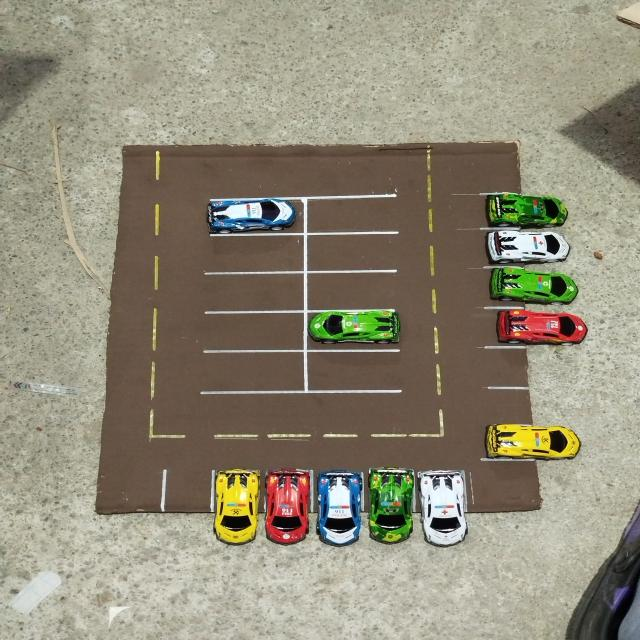libre: (482, 345, 587, 387), (201, 310, 305, 352), (96, 467, 164, 529), (201, 351, 306, 391), (306, 349, 402, 392), (202, 273, 305, 312), (202, 235, 305, 272), (166, 467, 212, 546), (304, 233, 396, 272), (305, 272, 398, 309), (305, 197, 399, 232), (484, 388, 580, 422)
no_estacionarse: (476, 459, 546, 514)
ocupado: (417, 466, 474, 552), (368, 464, 421, 551), (261, 465, 314, 551), (210, 466, 264, 547), (480, 422, 584, 463), (317, 464, 366, 550), (478, 228, 583, 268), (485, 267, 586, 307), (485, 309, 589, 346), (203, 199, 306, 236), (479, 192, 583, 228), (306, 311, 400, 350)
